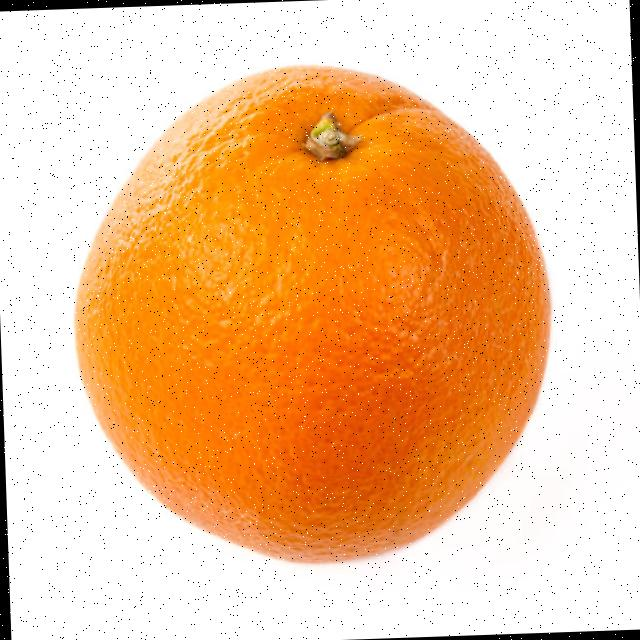orange: (74, 66, 549, 562)
